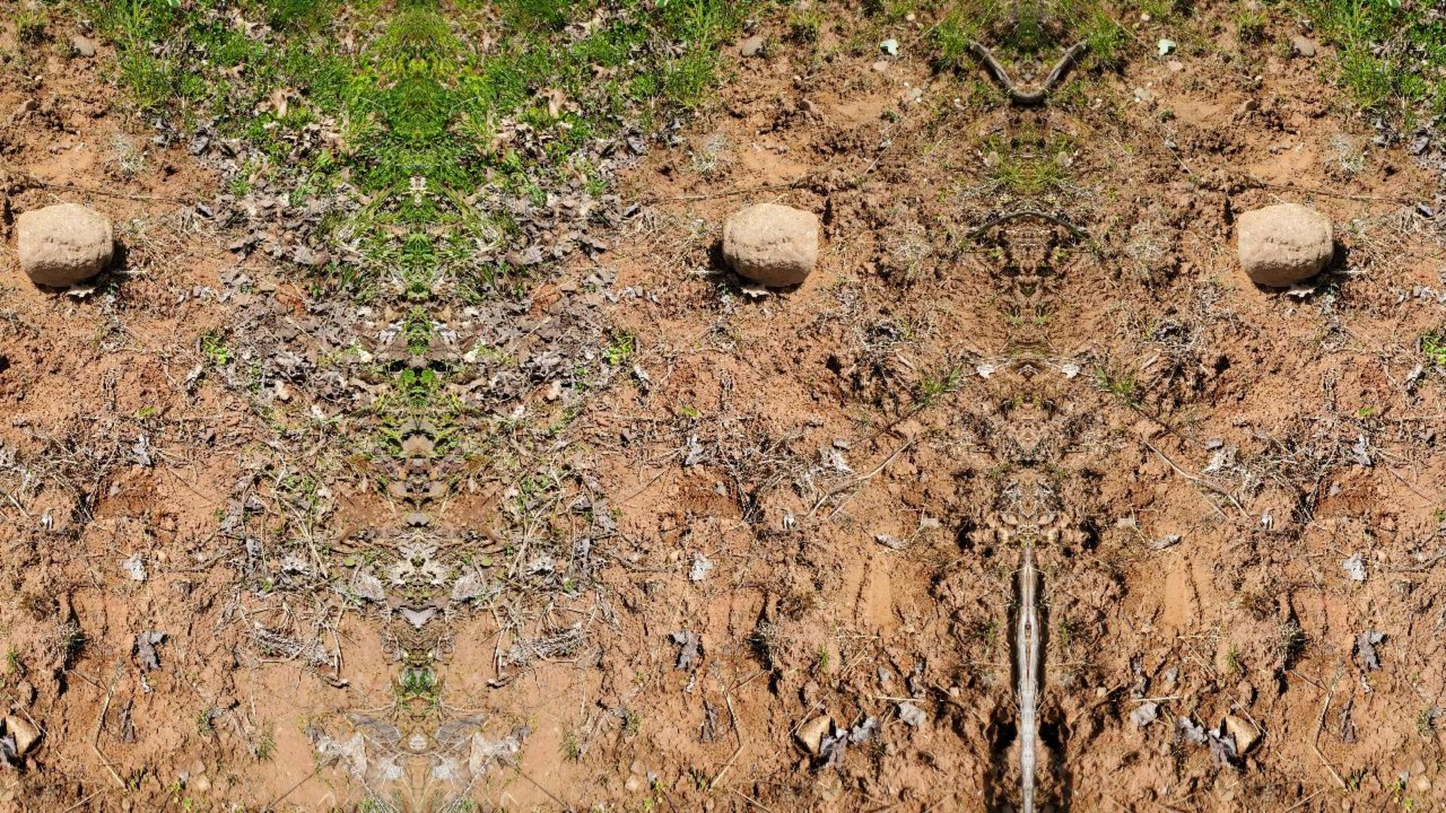rock: (16, 203, 112, 286), (723, 203, 818, 286), (1237, 203, 1332, 286)
